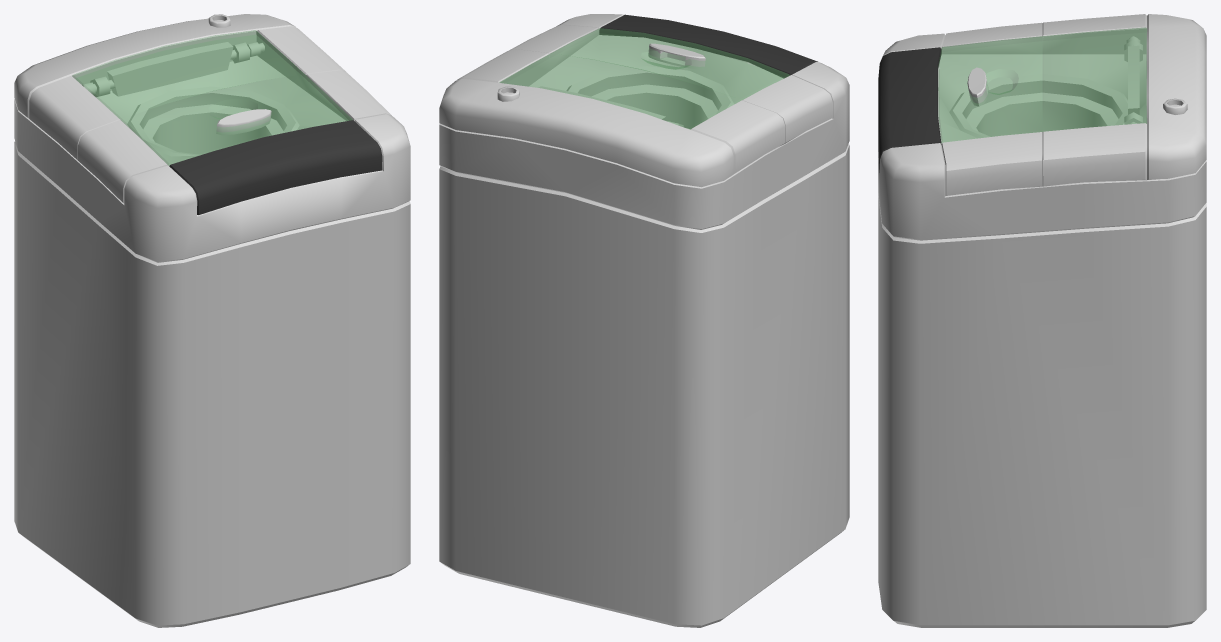
File: XQB55EA.FBX
The picture shows the model from 3 angles, left to right: view 1: azimuth 30°, elevation 25°; view 2: azimuth 150°, elevation 25°; view 3: azimuth 270°, elevation 25°; orthographic projection. The views are drawn at different scales.
Visible parts, largest first — view 1: XQB55EA; view 2: XQB55EA; view 3: XQB55EA.
Part boxes in pixels (x1=…): XQB55EA: x1=14, y1=14, x2=410, y2=627; XQB55EA: x1=439, y1=14, x2=849, y2=627; XQB55EA: x1=878, y1=14, x2=1206, y2=627.
Bounding box in the file's own units: 1422 × 2337 × 1412.
